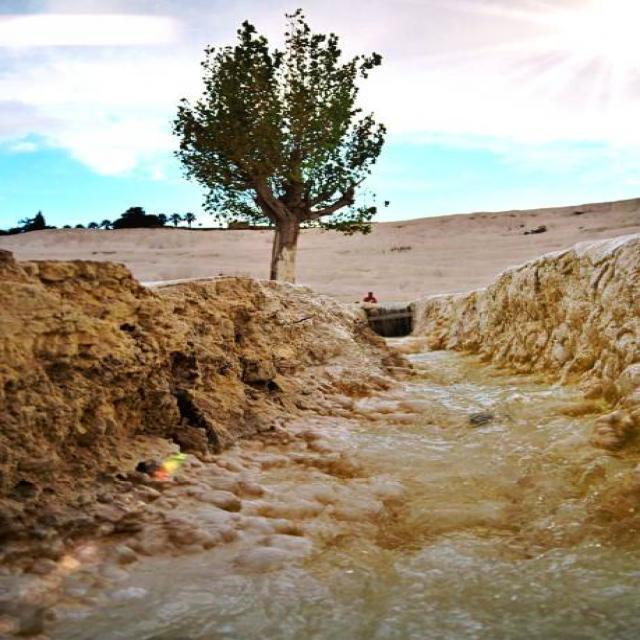tree: (171, 22, 289, 256), (292, 11, 391, 249)
